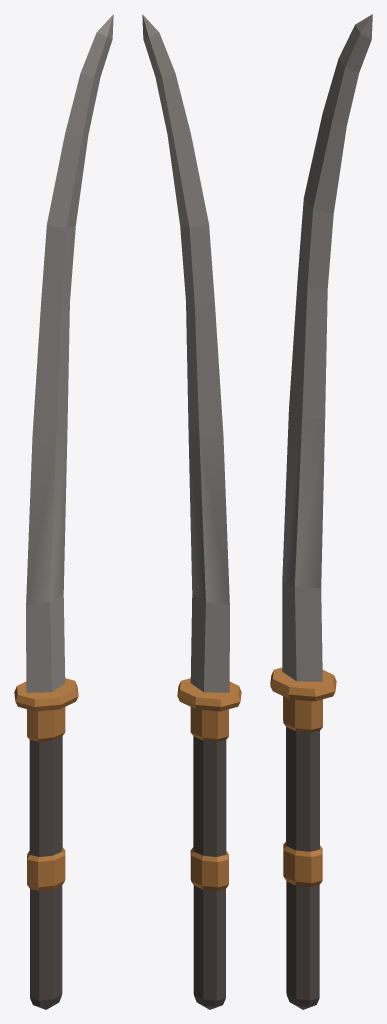
File: SM_pwe_china_sword_03.fbx
The picture shows the model from 3 angles, left to right: view 1: azimuth 30°, elevation 25°; view 2: azimuth 150°, elevation 25°; view 3: azimuth 330°, elevation 25°; orthographic projection. The views are drawn at different scales.
Visible parts, largest first — view 1: SM_pwe_china_sword_03; view 2: SM_pwe_china_sword_03; view 3: SM_pwe_china_sword_03.
Boxes of the visible parts, x1=… form: SM_pwe_china_sword_03: x1=14, y1=14, x2=113, y2=1009; SM_pwe_china_sword_03: x1=142, y1=14, x2=241, y2=1009; SM_pwe_china_sword_03: x1=270, y1=14, x2=372, y2=1009.
Size of the model in its own units: 8.4 by 80.03 by 4.26.
